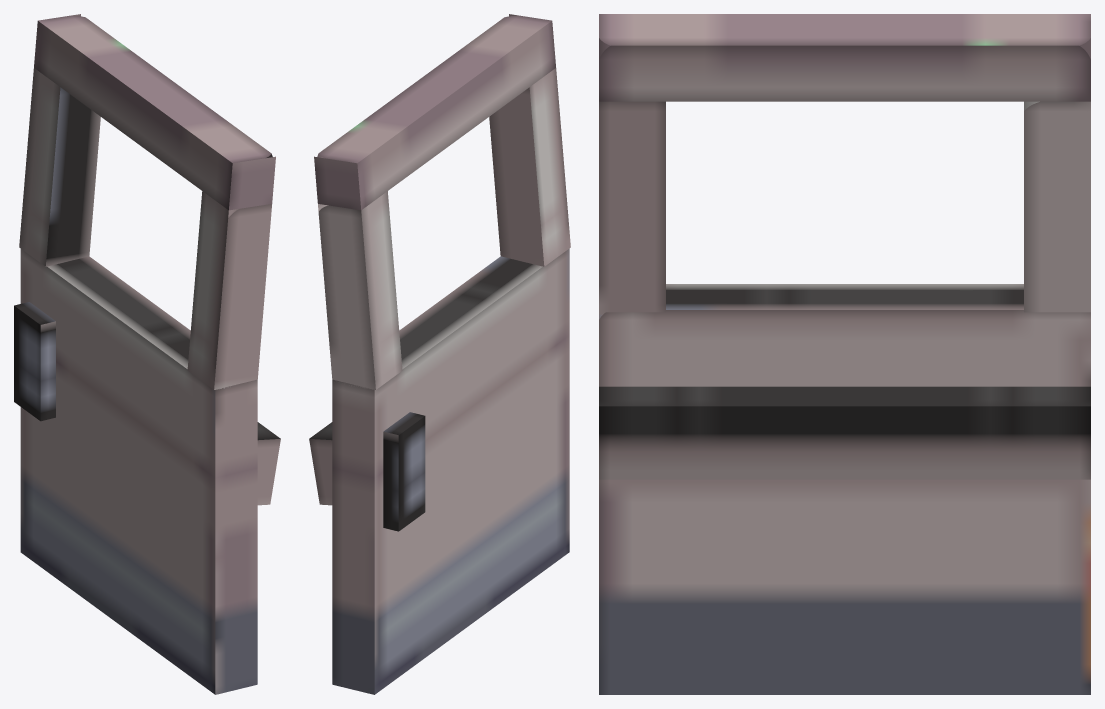
Rendered from wuling_back_door_left.obj.
3 views of the same model, side by side, from view 1: azimuth 30°, elevation 25°; view 2: azimuth 150°, elevation 25°; view 3: azimuth 270°, elevation 25° (orthographic). The views are drawn at different scales.
Parts seen in each view (by area): view 1: DP; view 2: DP; view 3: DP.
Boxes of the visible parts, bbox=[...] form: DP: bbox=[14, 14, 280, 694]; DP: bbox=[309, 14, 570, 694]; DP: bbox=[599, 14, 1090, 694].
Bounding box in the file's own units: 0.3294 × 2.05 × 1.37.
